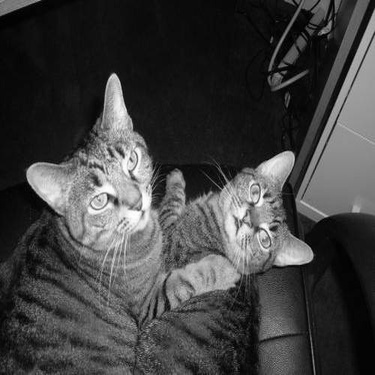cat: (9, 60, 168, 367), (157, 143, 311, 364)
